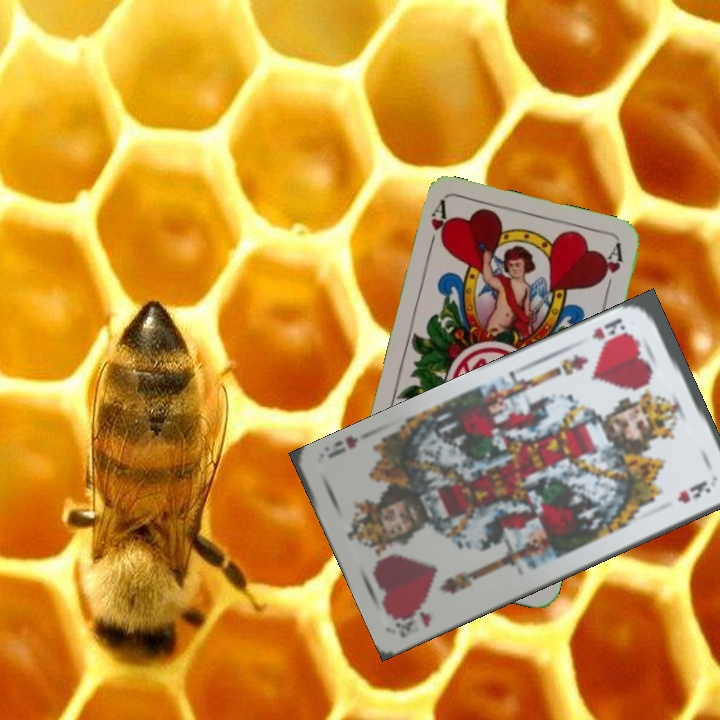HA: (423, 198, 452, 257)
HK: (392, 604, 434, 640), (588, 314, 628, 343)
